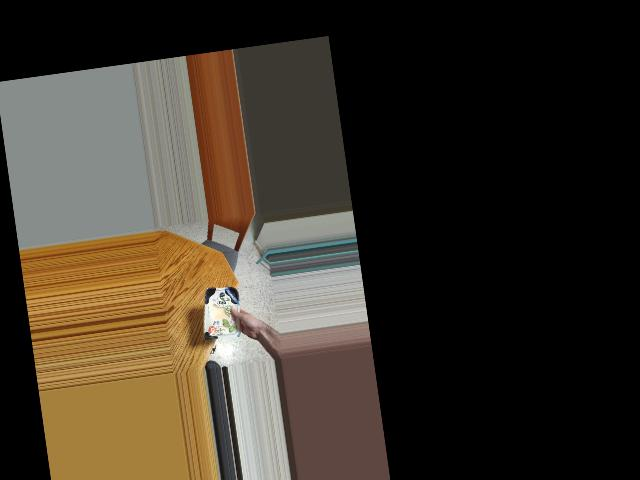cheese: (201, 286, 243, 337)
